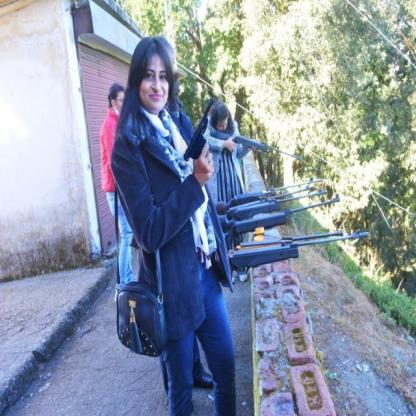handgun: (179, 91, 219, 174)
